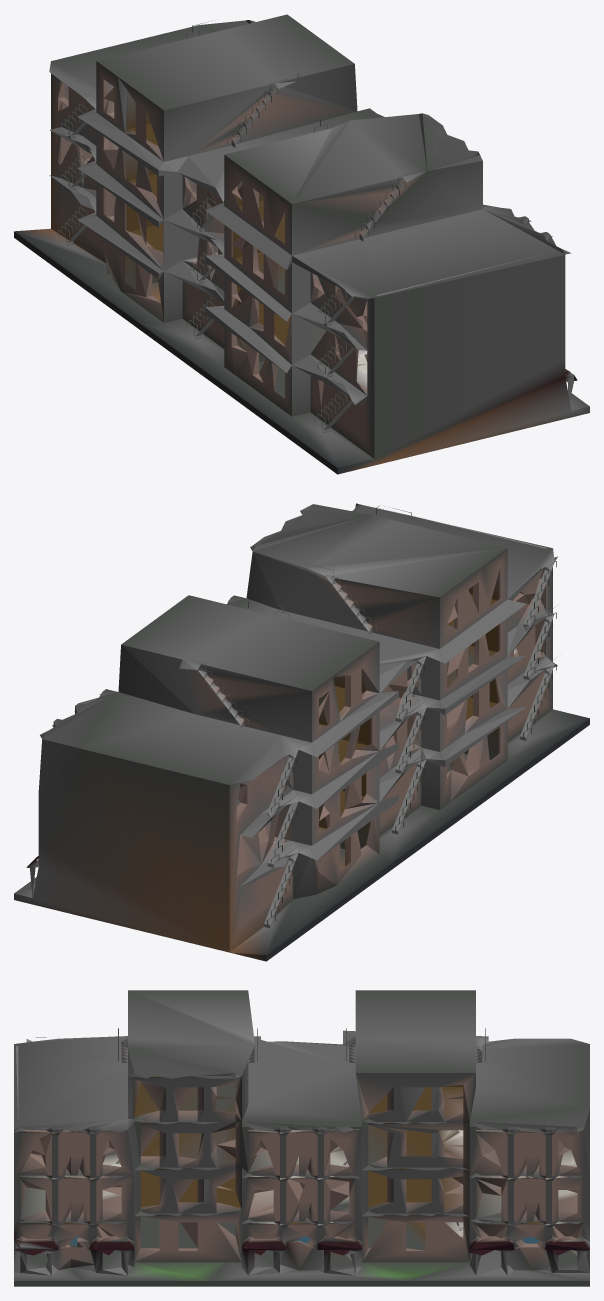
The model's file is immeuble.glb.
3 renders of one model, top to bottom at view 1: azimuth 30°, elevation 25°; view 2: azimuth 150°, elevation 25°; view 3: azimuth 270°, elevation 25°, orthographic. The views are drawn at different scales.
Parts seen in each view (by area): view 1: Stone, Oak_Leaves; view 2: Stone, Oak_Leaves; view 3: Stone.
Part boxes in pixels (x1,y1,x2,y2): Stone: [14, 14, 589, 474]; Oak_Leaves: [58, 20, 427, 428]; Stone: [14, 503, 589, 961]; Oak_Leaves: [185, 505, 556, 926]; Stone: [14, 990, 589, 1286].
Size of the model in its own units: 1.14 by 0.9721 by 2.53.
